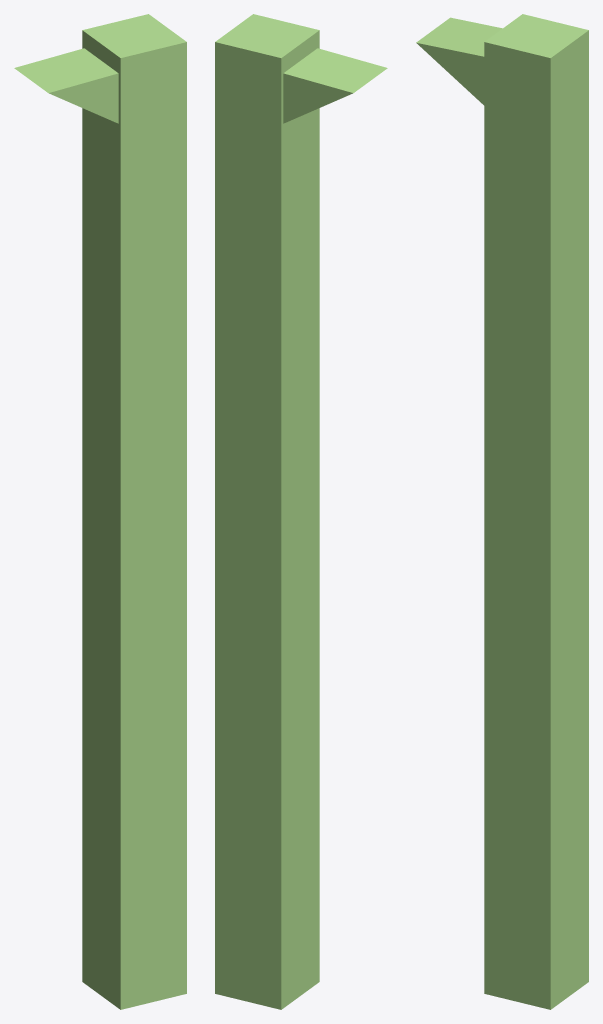
File: Lightpost.fbx
The picture shows the model from 3 angles, left to right: view 1: azimuth 30°, elevation 25°; view 2: azimuth 150°, elevation 25°; view 3: azimuth 330°, elevation 25°; orthographic projection.
Visible parts, largest first — view 1: Cube.009; view 2: Cube.009; view 3: Cube.009.
Part boxes in pixels (left/top/right/bottom): Cube.009: left=14, top=14, right=186, bottom=1009; Cube.009: left=215, top=14, right=387, bottom=1009; Cube.009: left=416, top=14, right=588, bottom=1009.
Bounding box in the file's own units: 29.92 × 199 × 14.53.
